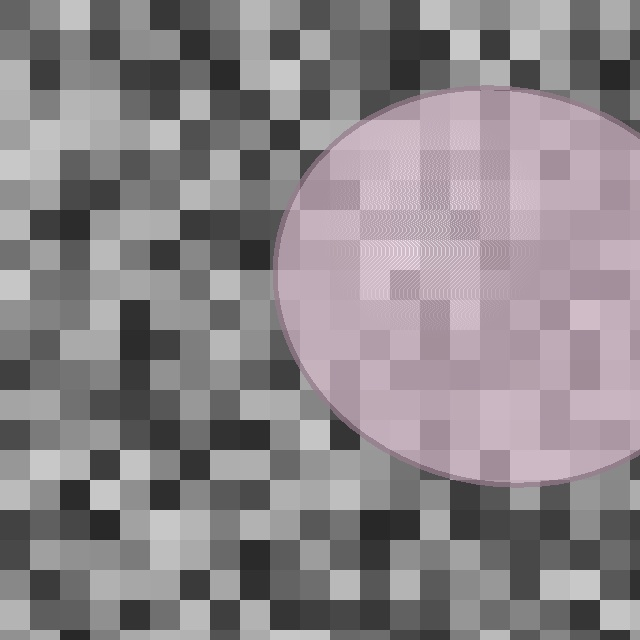lens: (275, 87, 640, 485)
